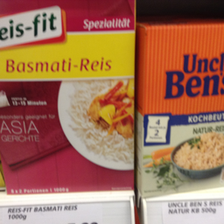rice: (1, 1, 137, 195), (136, 22, 224, 195)
